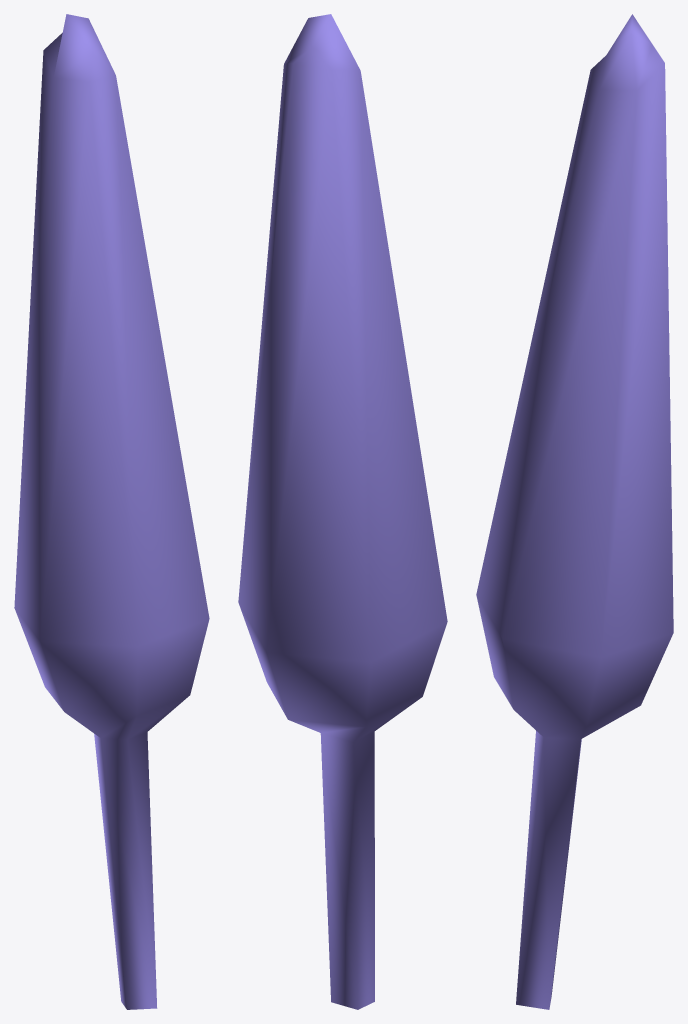
File: roselle1.fbx
3 views of the same model, side by side, from view 1: azimuth 30°, elevation 25°; view 2: azimuth 150°, elevation 25°; view 3: azimuth 270°, elevation 25° (orthographic). The views are drawn at different scales.
Visible parts, largest first — view 1: roselle1; view 2: roselle1; view 3: roselle1.
Part boxes in pixels (x1=…): roselle1: x1=14, y1=14, x2=209, y2=1009; roselle1: x1=238, y1=14, x2=447, y2=1009; roselle1: x1=476, y1=14, x2=673, y2=1009.
Bounding box in the file's own units: 12.38 × 67.26 × 12.33.
